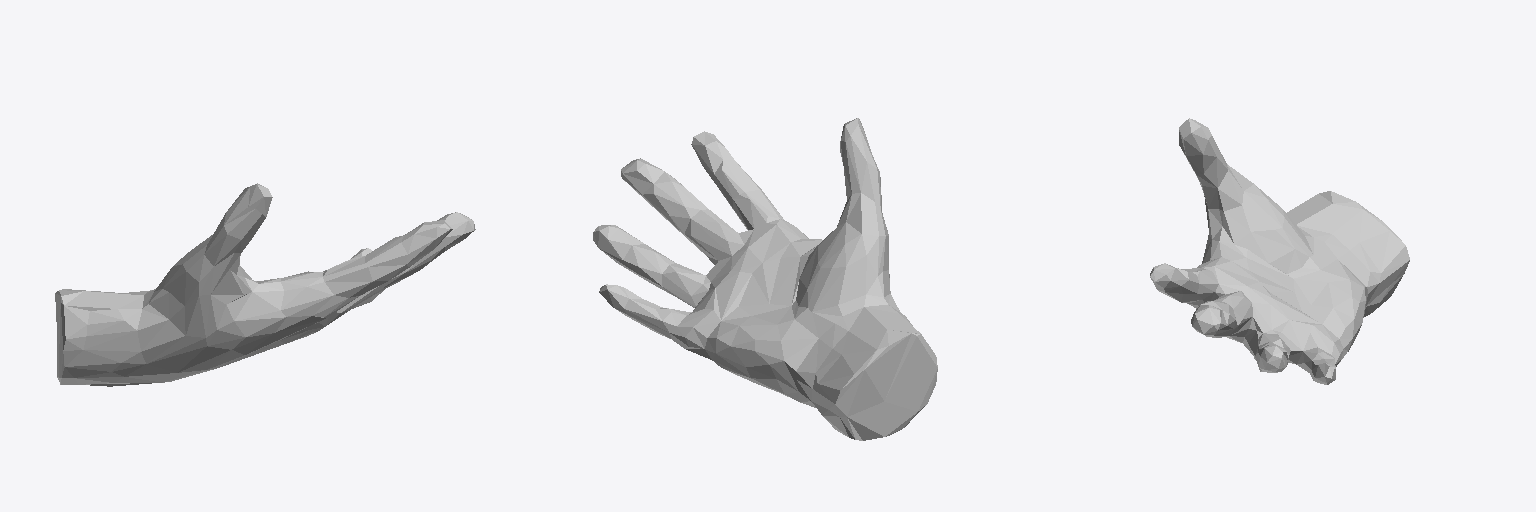
Rendered from hand2.obj.
The picture shows the model from 3 angles: view 1: azimuth 30°, elevation 25°; view 2: azimuth 150°, elevation 25°; view 3: azimuth 270°, elevation 25°; orthographic projection.
Visible parts, largest first — view 1: mano:Mesh group3; view 2: mano:Mesh group3; view 3: mano:Mesh group3.
Part boxes in pixels (x1,y1,x2,y2): mano:Mesh group3: (55, 183, 475, 386); mano:Mesh group3: (593, 118, 937, 440); mano:Mesh group3: (1150, 118, 1409, 384).
Size of the model in its own units: 3.55 by 2.17 by 2.21.